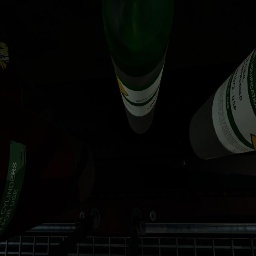0: (102, 0, 174, 134), (189, 47, 256, 160)
NitrogenTank ,: (0, 92, 95, 243), (0, 59, 54, 124)
